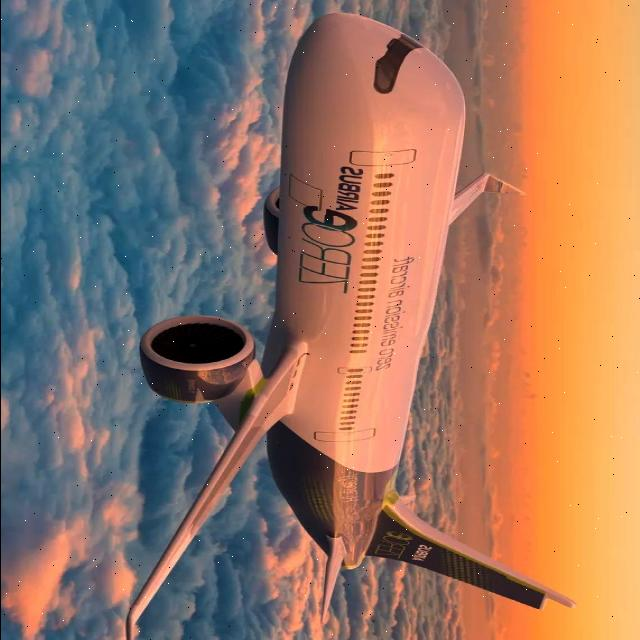aircraft: (25, 7, 601, 630)
